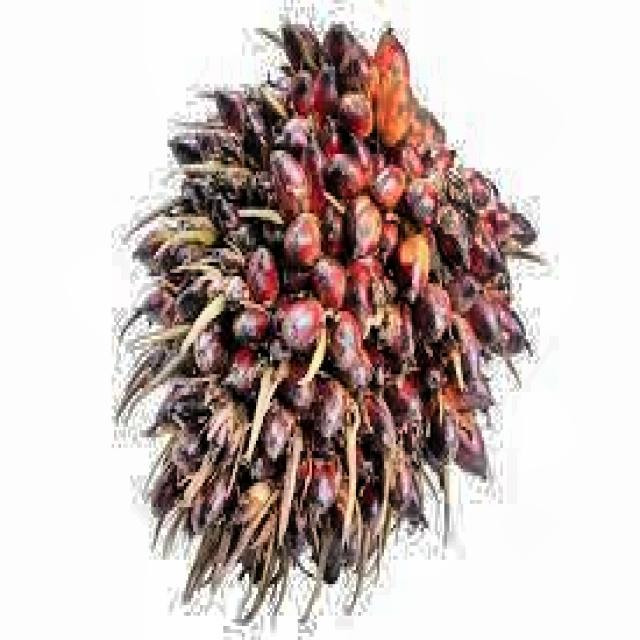FFB: (135, 25, 526, 585)
